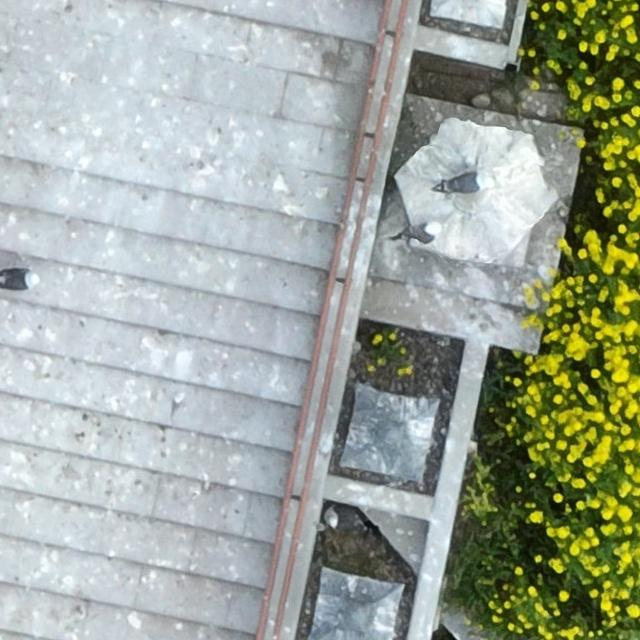umineko: (441, 173, 495, 198), (406, 217, 444, 246), (326, 508, 364, 530), (1, 271, 31, 288)
